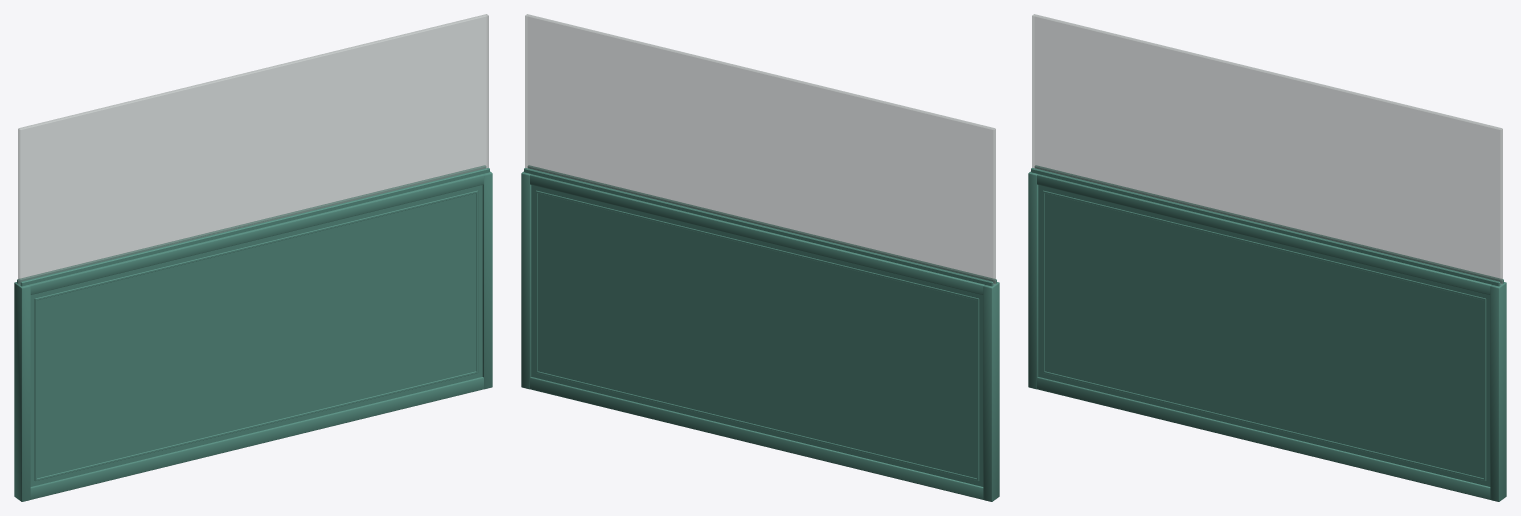
The model's file is SM_DeskPartition.fbx.
3 renders of one model, left to right at view 1: azimuth 30°, elevation 25°; view 2: azimuth 150°, elevation 25°; view 3: azimuth 330°, elevation 25°, orthographic.
Visible parts, largest first — view 1: SM_DeskPartition; view 2: SM_DeskPartition; view 3: SM_DeskPartition.
Part boxes in pixels (<box>): SM_DeskPartition: <box>14,14,492,501</box>; SM_DeskPartition: <box>521,14,999,501</box>; SM_DeskPartition: <box>1028,14,1506,501</box>.
Bounding box in the file's own units: 200 × 150 × 6.
